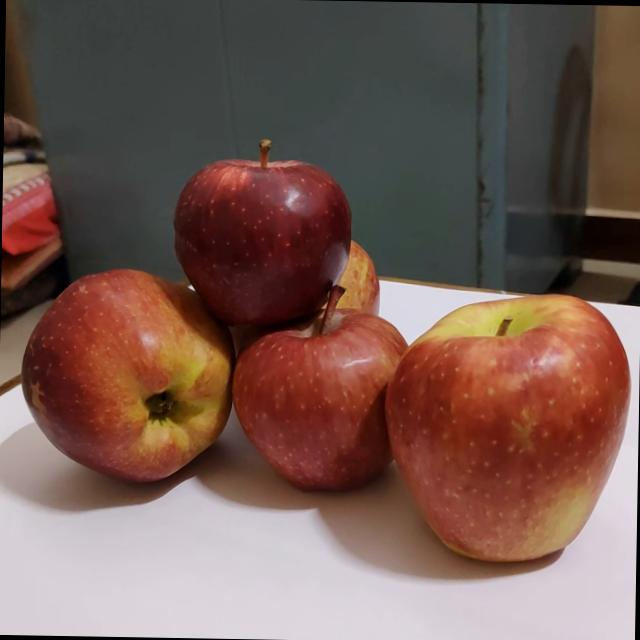apple: (381, 286, 634, 571), (17, 263, 235, 488), (229, 278, 412, 500), (168, 136, 356, 332), (310, 234, 380, 330)
